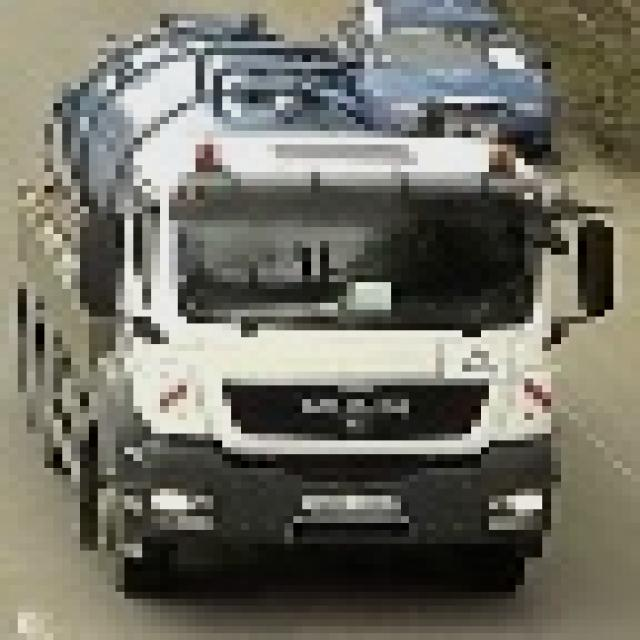truck: (0, 0, 613, 598)
